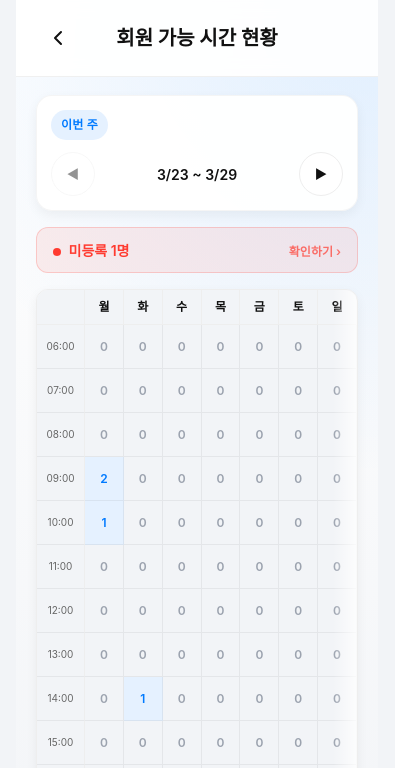
Scenario: AvailabilityStatusView 히트맵 › 셀 클릭 시 바텀시트 오픈
Click the button with class "availability-status__heatmap-cell" showing "2": (104, 479) [85, 457, 124, 501]
(page scrolled)
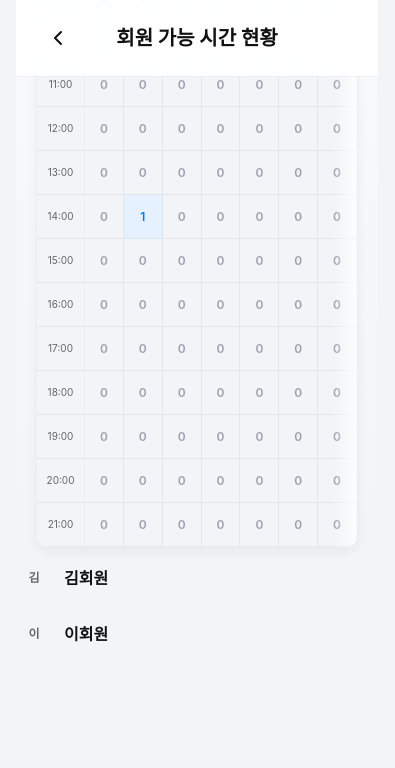
Now the element with class "bottom-sheet-stub" is shown, box [16, 560, 108, 652]
